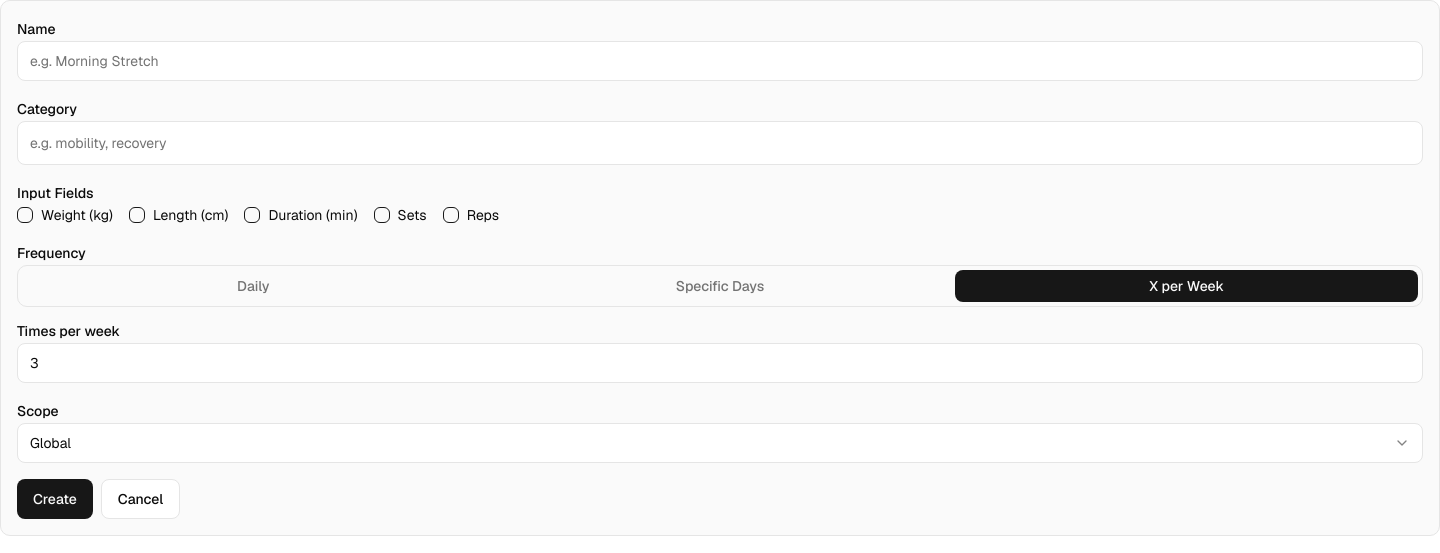
it: CreateRoutineItemForm › FrequencyModeSelector integration › hides weekly target input when switching to daily mode
Click the button "Daily" at (253, 286), box left=22, top=270, right=485, bottom=302
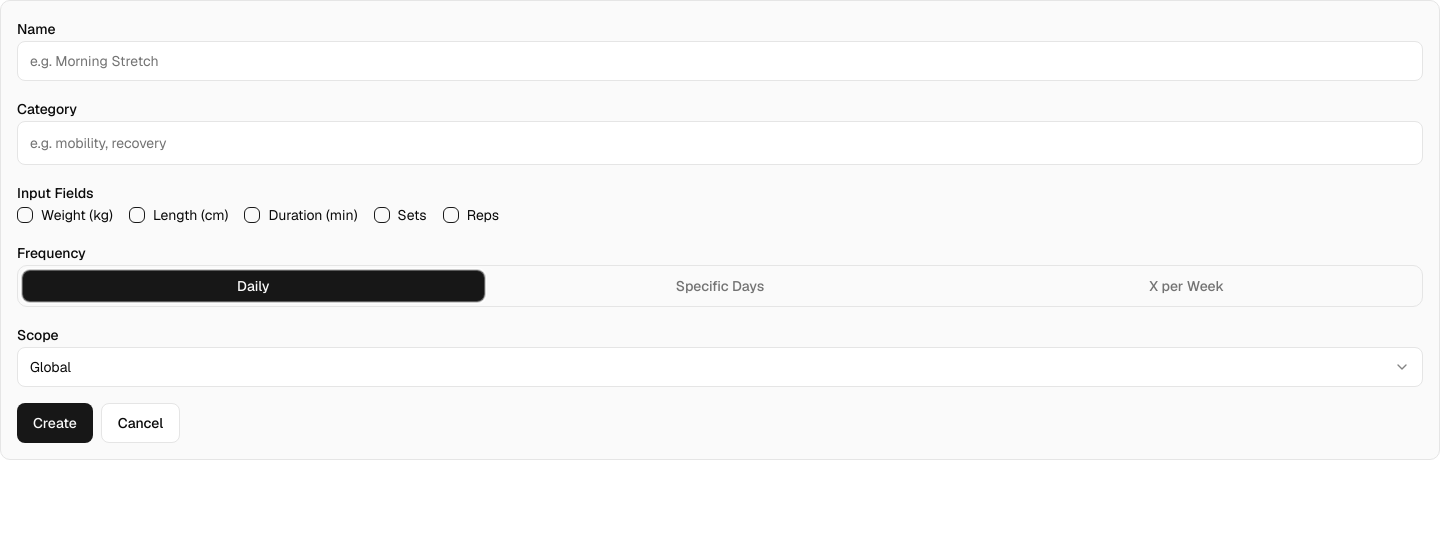
Check: the label labelled "Times per week" is gone
